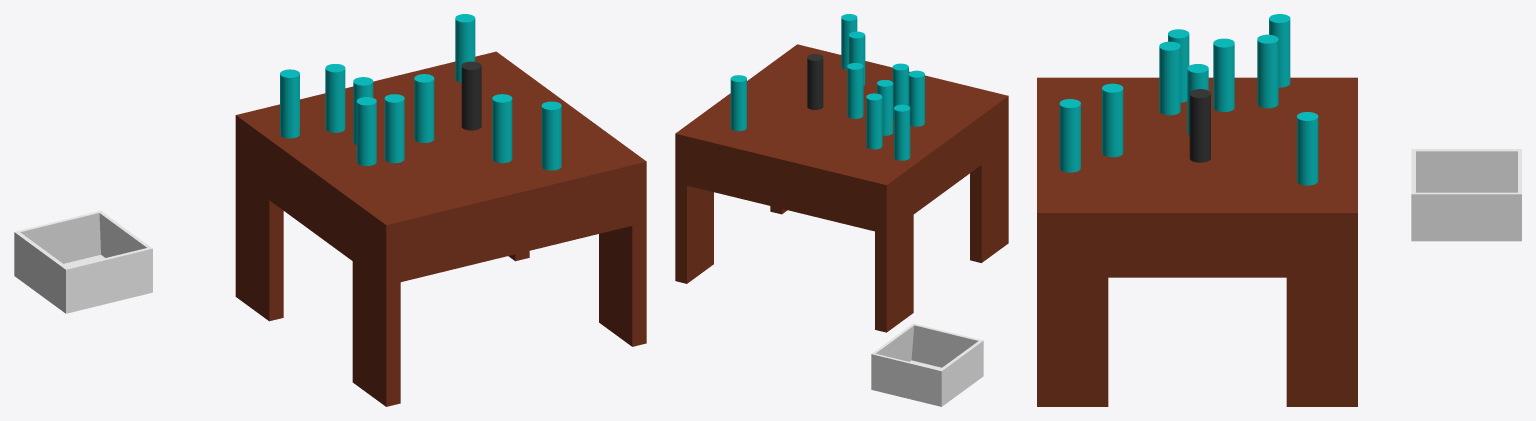
The model's file is can_world_10_cans.dae.
3 renders of one model, left to right at view 1: azimuth 30°, elevation 25°; view 2: azimuth 150°, elevation 25°; view 3: azimuth 270°, elevation 25°, orthographic. The views are drawn at different scales.
Parts seen in each view (by area): view 1: base (×14), SketchUp (×2); view 2: base (×14), SketchUp (×2); view 3: base (×13), SketchUp (×2).
Boxes of the visible parts, box(x1,y1,x2,y2) form: base (×14): box(235, 14, 646, 406); SketchUp (×2): box(14, 211, 152, 313); base (×14): box(675, 14, 1008, 332); SketchUp (×2): box(871, 323, 983, 406); base (×13): box(1037, 14, 1357, 406); SketchUp (×2): box(1411, 149, 1521, 241).
Size of the model in its own units: 1.4 by 1.36 by 0.811.
